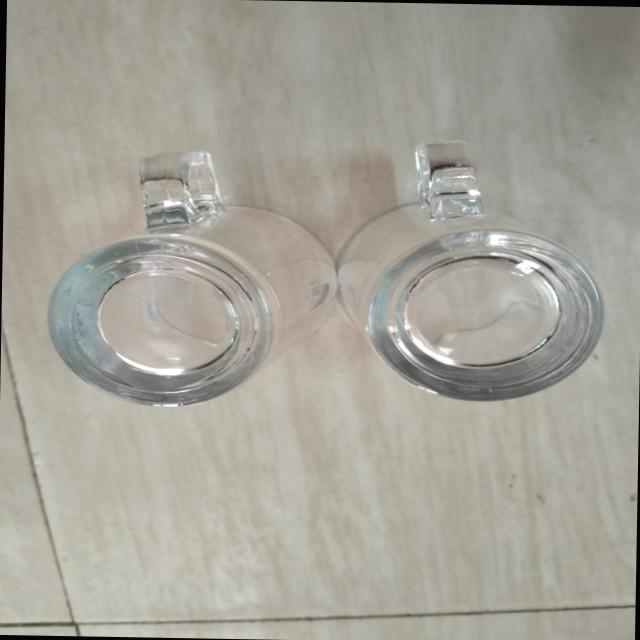glass-VX4N: (36, 146, 320, 412), (332, 140, 606, 410)
